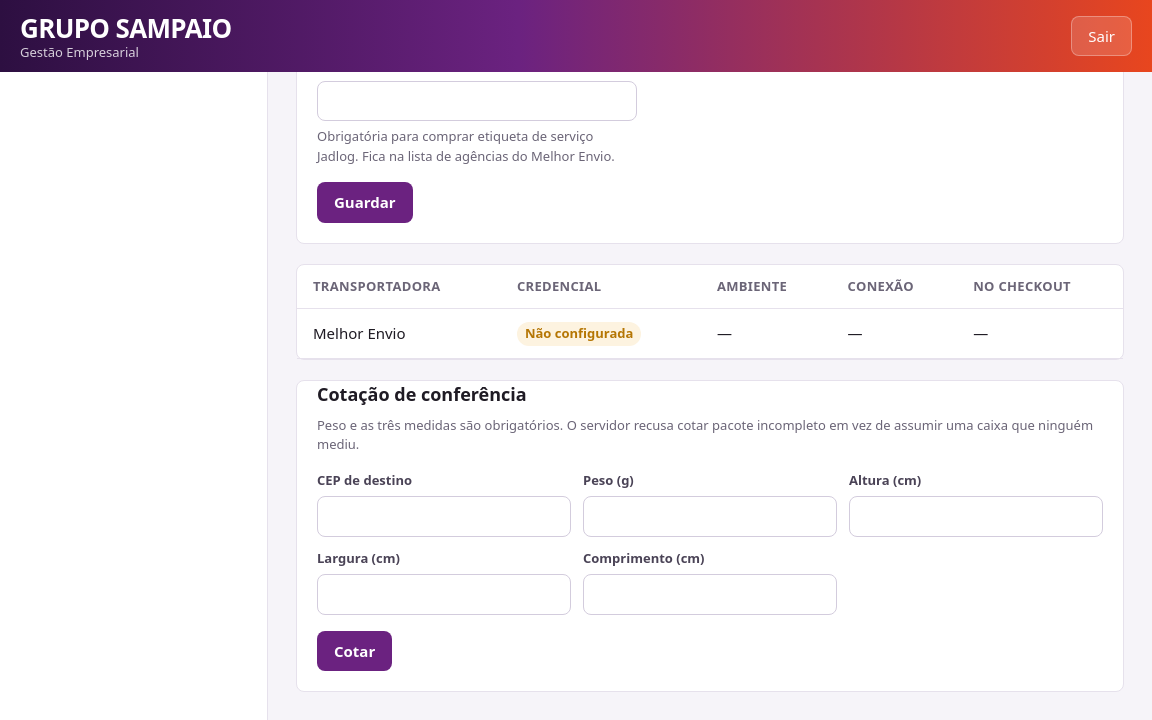
Test: cotação de conferência › mostra o nome do serviço que o servidor manda (serviceName)
This screenshot has width=1152, height=720.
(page scrolled)
Click the button "Cotar".
click(355, 651)  # box x1=317 y1=630 x2=392 y2=671
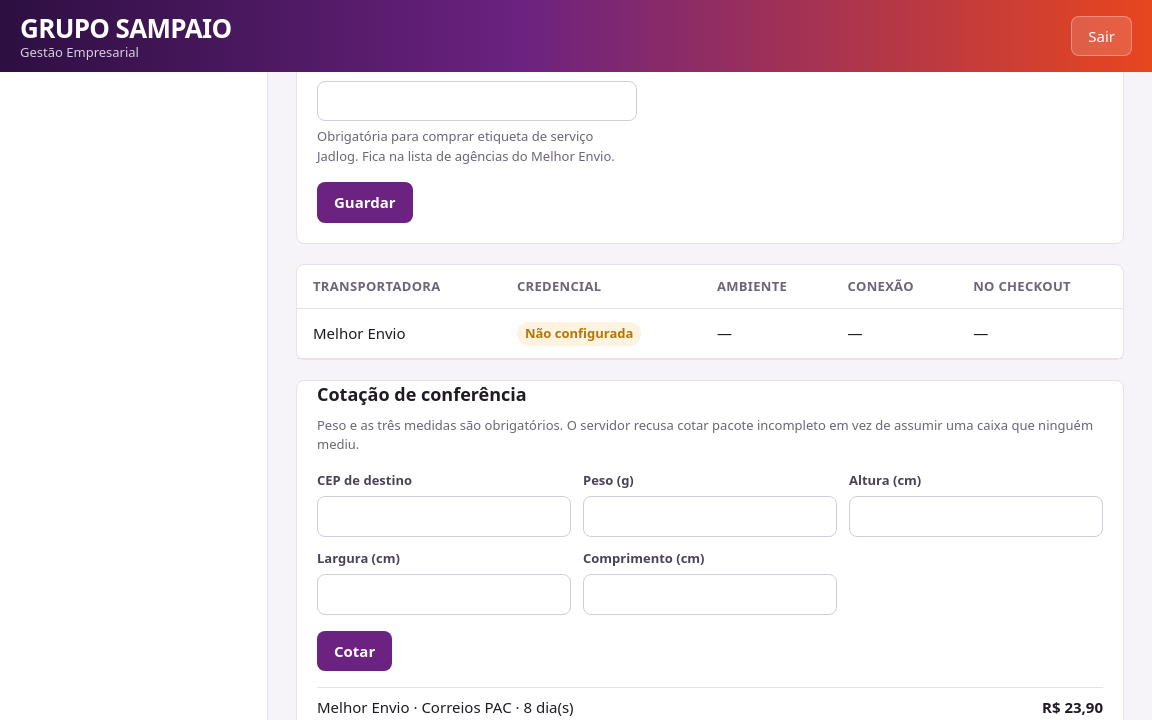
Check: the text "Melhor Envio · Correios PAC · 8 dia(s)" is shown, box x1=317 y1=696 x2=574 y2=718
